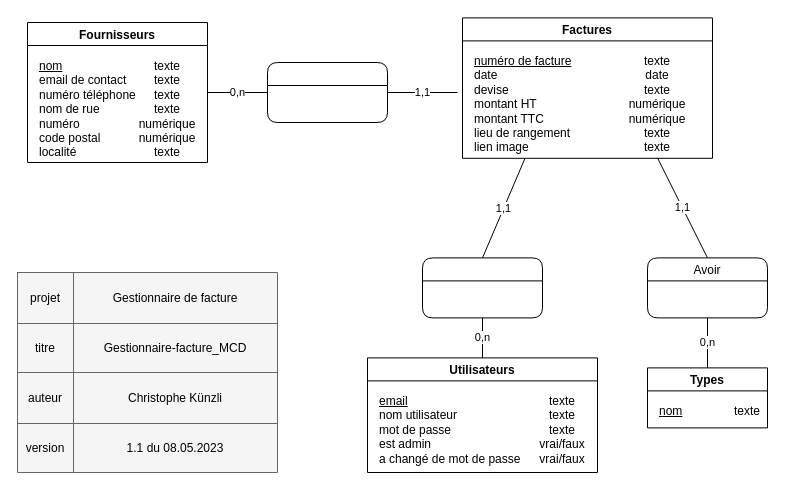
Some shapes in this 795 by 490 pixel diagram are drawn without their labels. Here are the shapes that lost their labels. From the top down, the centre of each, then its label:
At (x=327, y=92): "Emettre".
At (x=482, y=287): "Recevoir".
